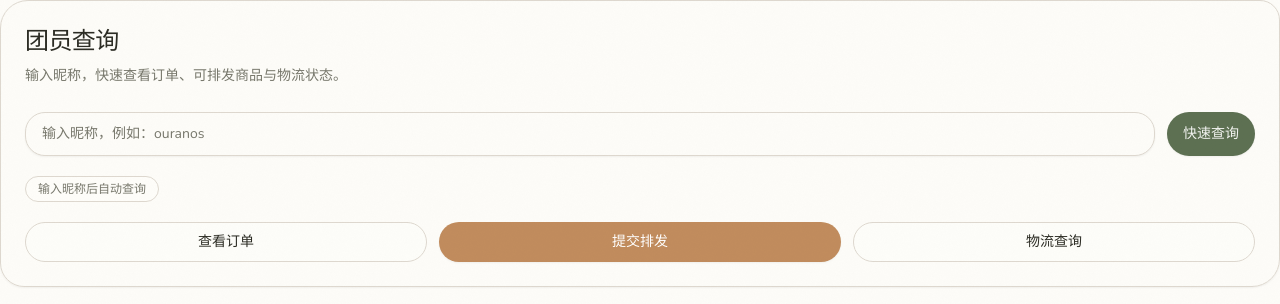
Test case: NicknameSearch summarizes pending items and coerces quantities
Step 1. Type "alice" into the field → (590, 134), box [25,112,1155,156]
Wait 300 ms
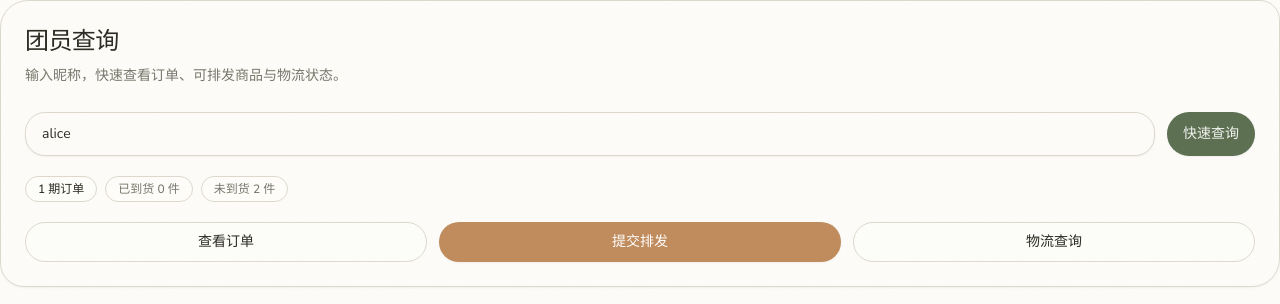
Check: the text "未到货 2 件" is shown, box [201,176,288,202]
